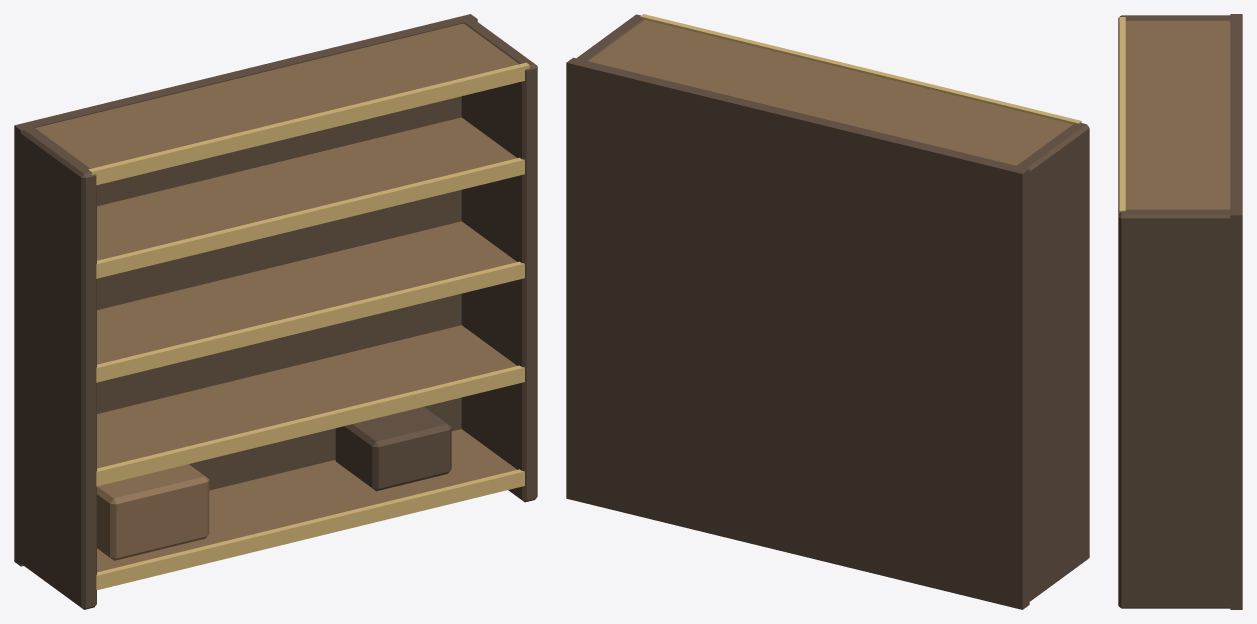
Rendered from lt_shelf_ex.glb.
The picture shows the model from 3 angles, left to right: view 1: azimuth 30°, elevation 25°; view 2: azimuth 150°, elevation 25°; view 3: azimuth 270°, elevation 25°; orthographic projection. The views are drawn at different scales.
Visible parts, largest first — view 1: lt_shelf_ex; view 2: lt_shelf_ex; view 3: lt_shelf_ex.
Boxes of the visible parts, <box> form: lt_shelf_ex: <box>14,14,537,609</box>; lt_shelf_ex: <box>566,14,1089,609</box>; lt_shelf_ex: <box>1118,14,1242,609</box>.
Bounding box in the file's own units: 2.3 × 2.11 × 0.6.
